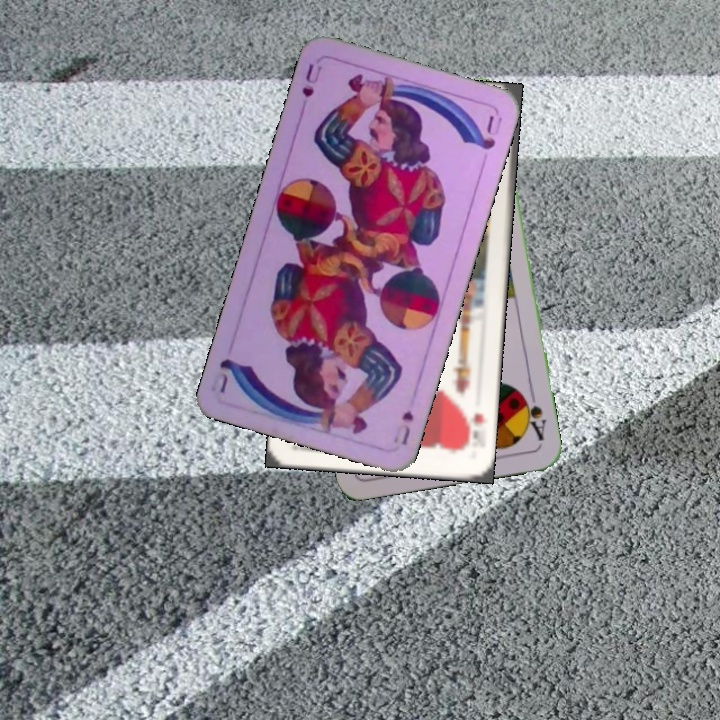HK: (460, 409, 487, 453)
SA: (517, 386, 549, 444)
SU: (297, 59, 325, 115), (397, 406, 416, 448)
